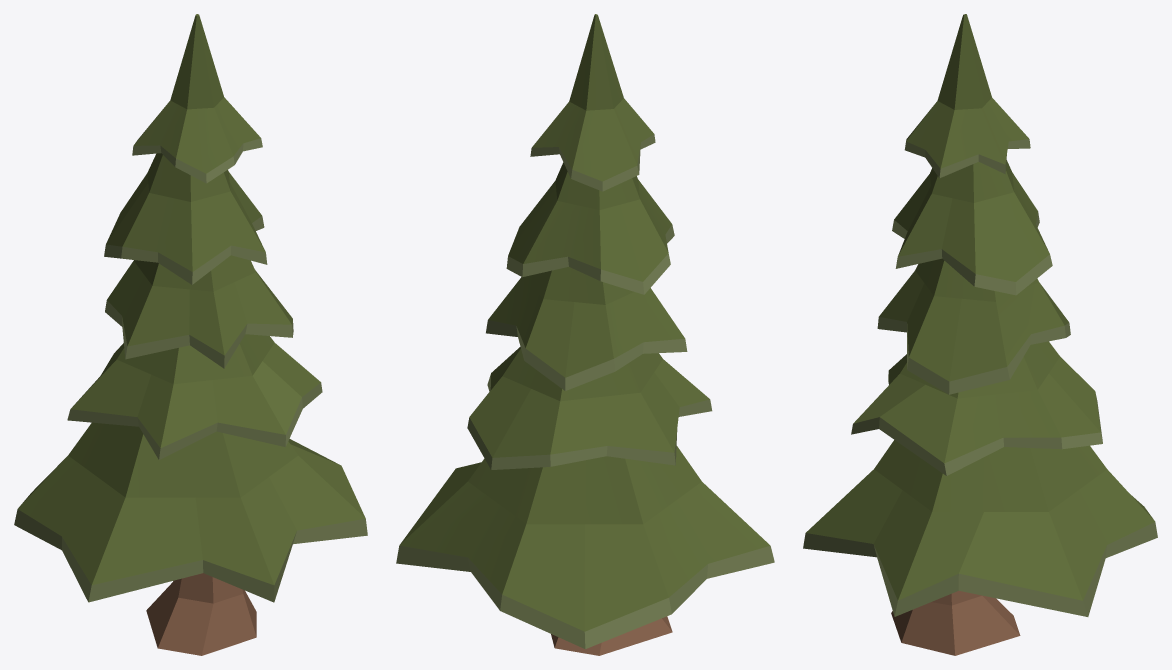
Rendered from fir_tree_5.fbx.
3 views of the same model, side by side, from view 1: azimuth 30°, elevation 25°; view 2: azimuth 150°, elevation 25°; view 3: azimuth 270°, elevation 25° (orthographic).
Visible parts, largest first — view 1: fir_tree_5; view 2: fir_tree_5; view 3: fir_tree_5.
Part boxes in pixels (x1=…): fir_tree_5: x1=14, y1=14, x2=367, y2=655; fir_tree_5: x1=396, y1=14, x2=774, y2=655; fir_tree_5: x1=803, y1=14, x2=1157, y2=655.
Bounding box in the file's own units: 327 × 667 × 349.
